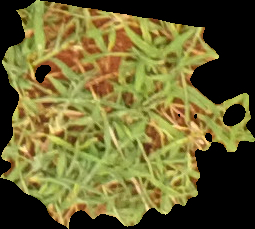grass: (2, 1, 254, 227)
